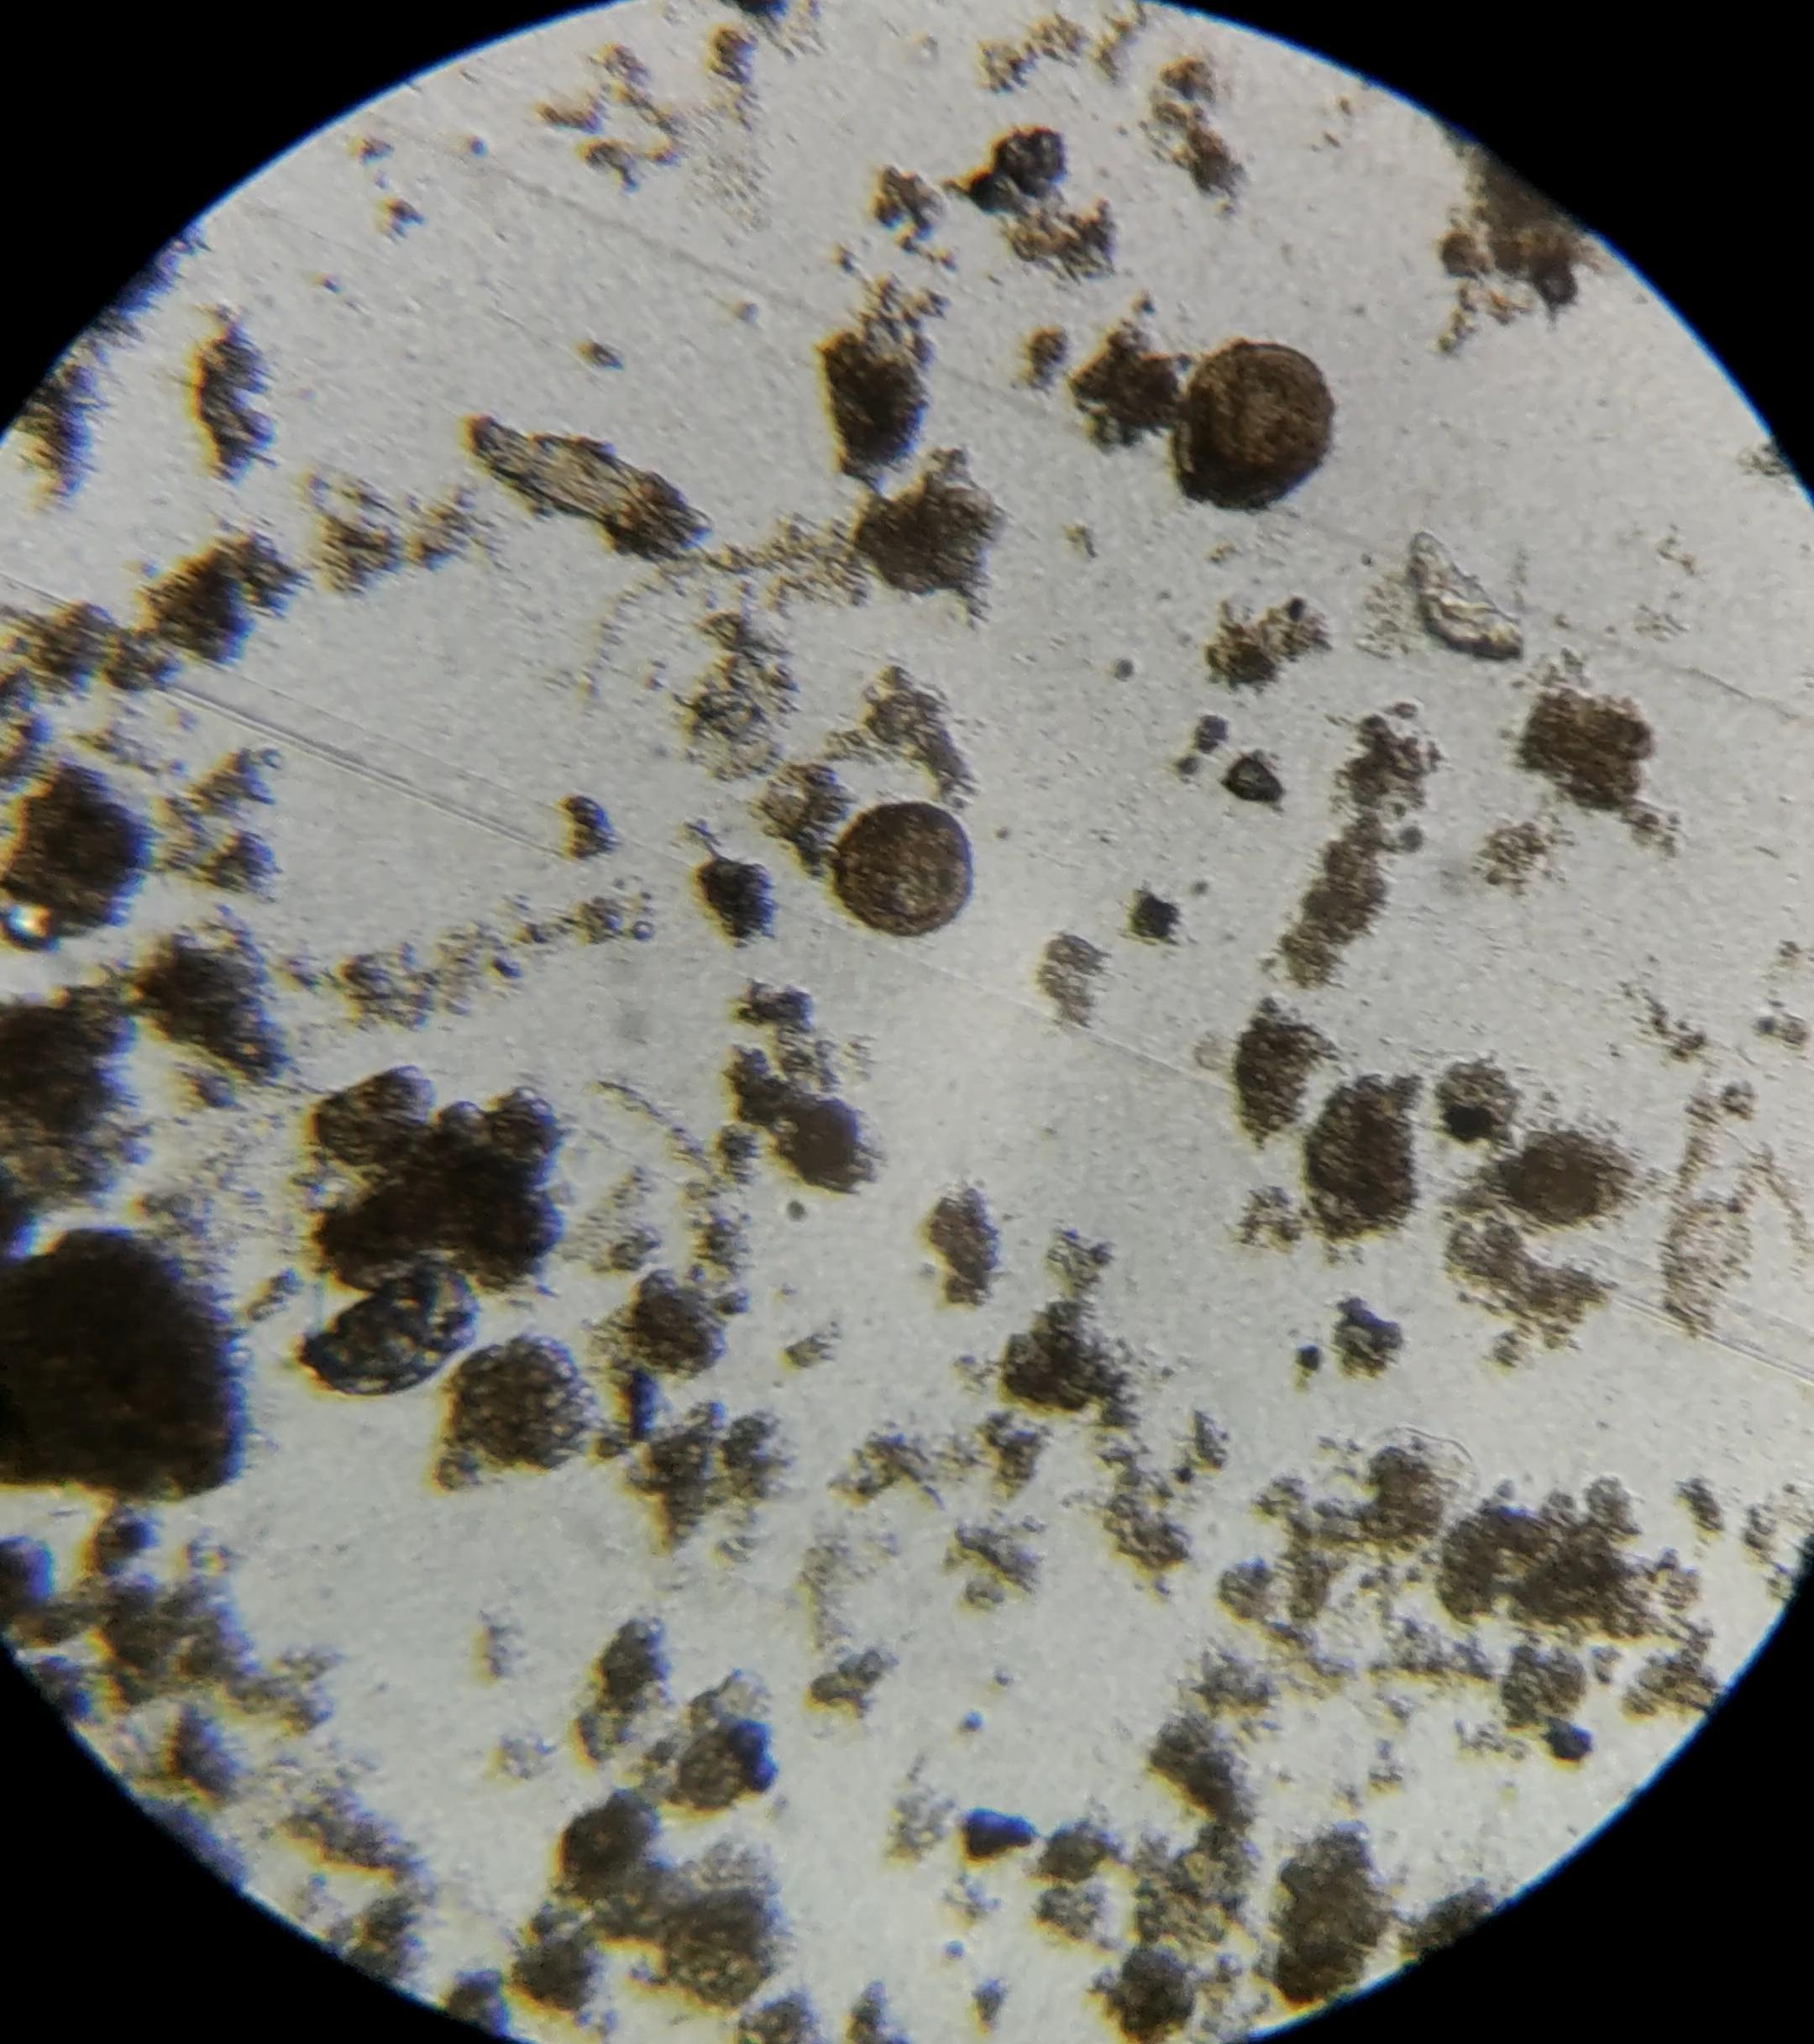Arcella: (835, 802, 972, 937)
Mo: (1175, 345, 1331, 510), (303, 1254, 478, 1398)
